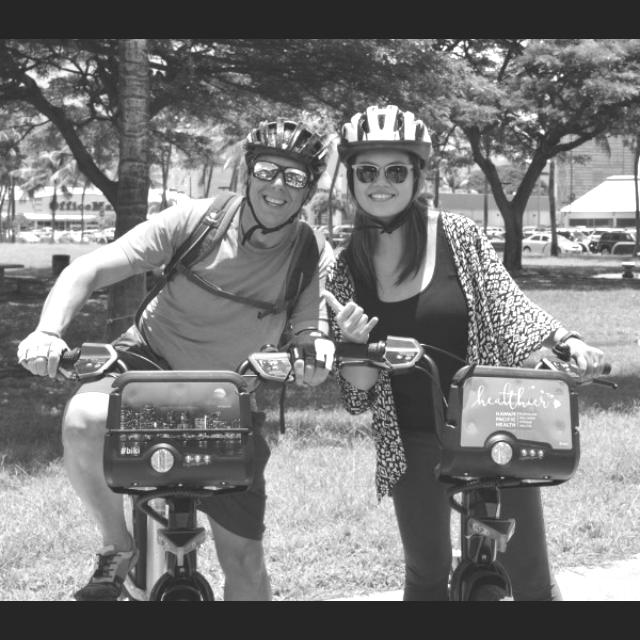With Helmet: (332, 99, 440, 225), (242, 110, 326, 236)
